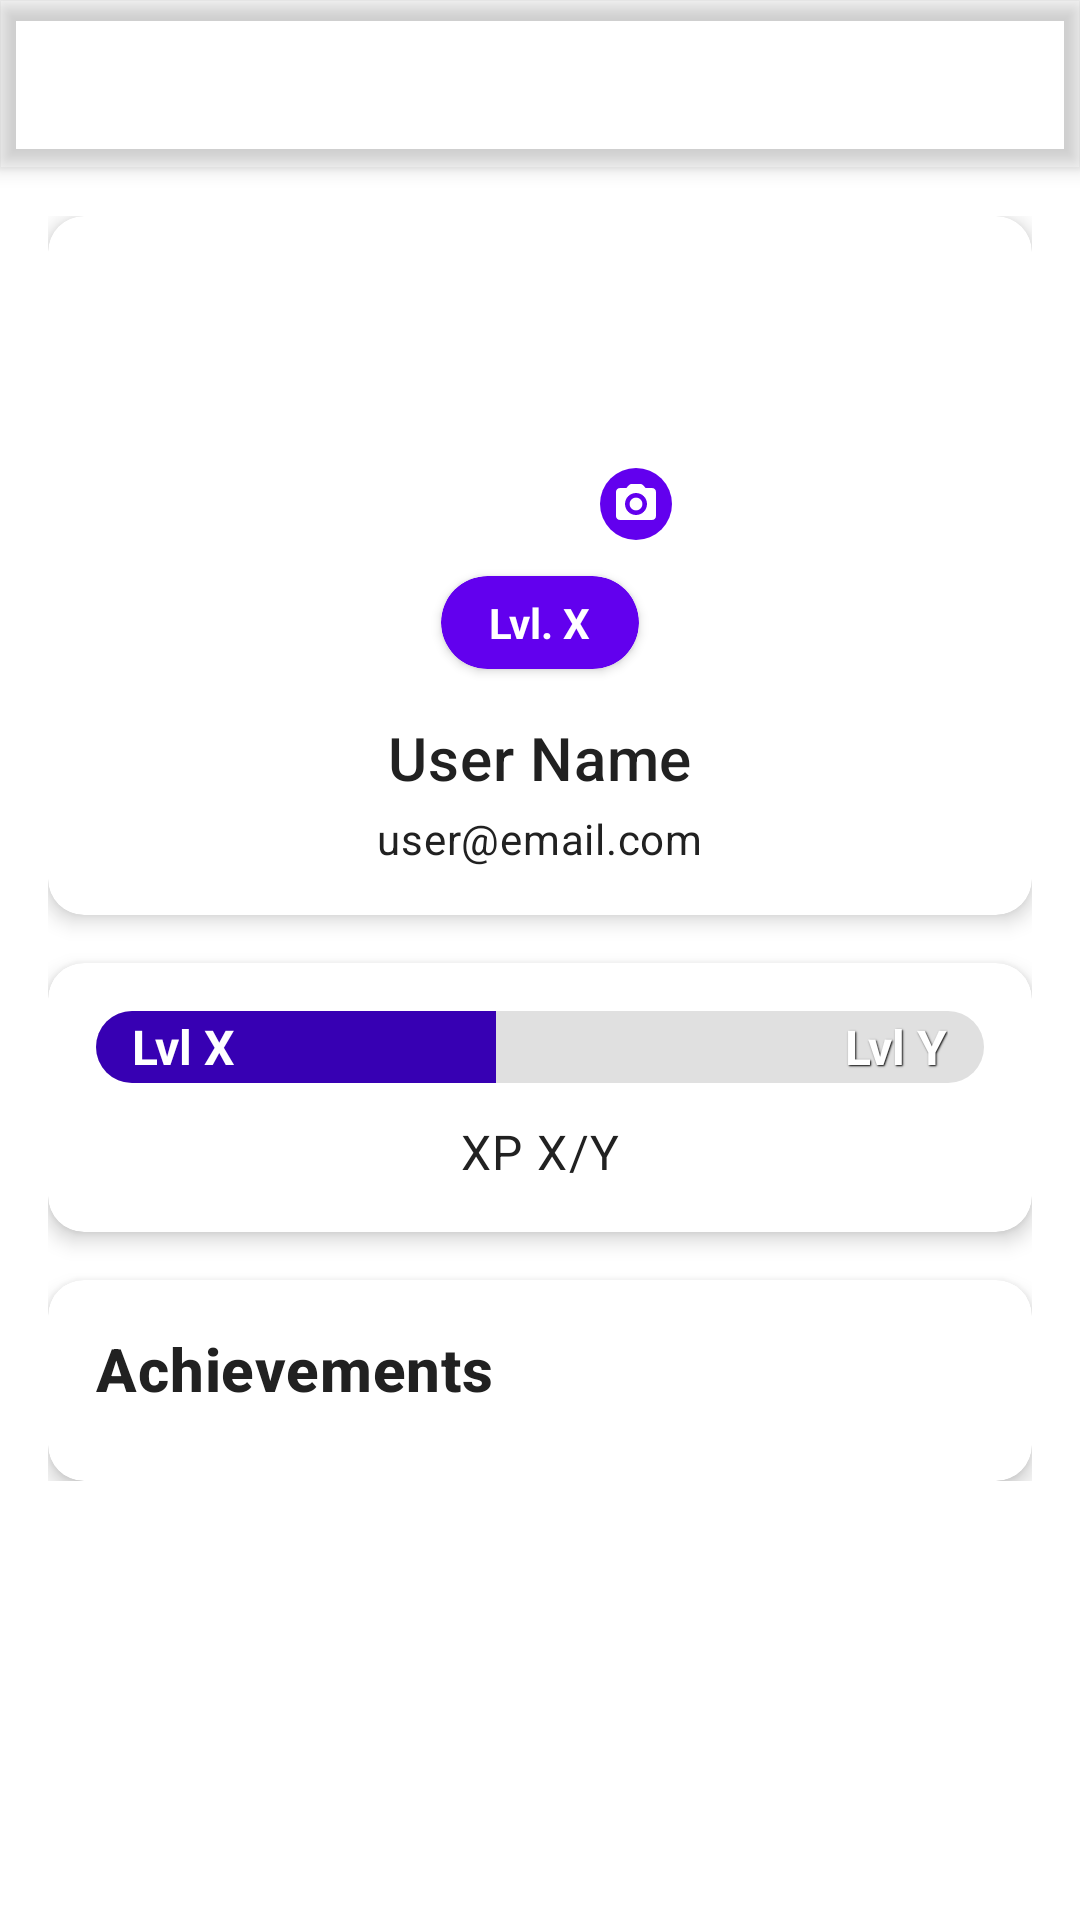

Screen size 1080px x 1920px. Icon name, then its box in pixels as box(x1, y1, x2, y2):
Edit profile picture: box(600, 468, 672, 540)
